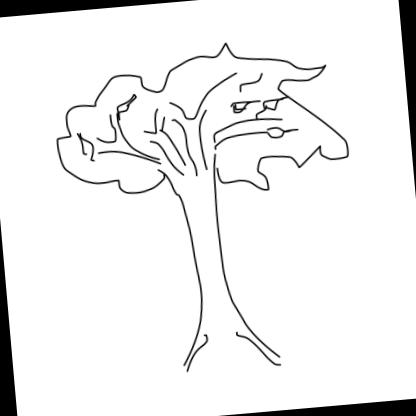branch_line: (90, 90, 290, 182)
crown_dizzy: (50, 34, 352, 208)
trunk_straight: (179, 195, 242, 321)
